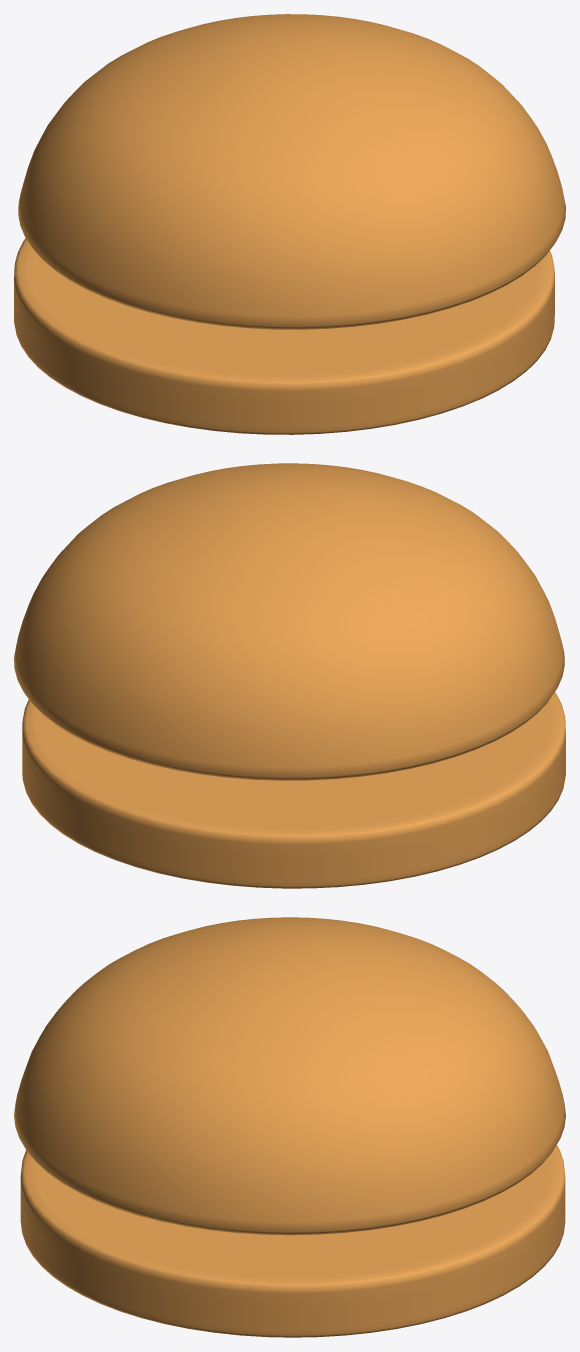
Rendered from Burger2.fbx.
The picture shows the model from 3 angles, top to bottom: view 1: azimuth 30°, elevation 25°; view 2: azimuth 150°, elevation 25°; view 3: azimuth 270°, elevation 25°; orthographic projection.
Visible parts, largest first — view 1: Sphere.007, Sphere.001; view 2: Sphere.007, Sphere.001; view 3: Sphere.007, Sphere.001.
Boxes of the visible parts, x1=… form: Sphere.007: x1=18, y1=14, x2=565, y2=329; Sphere.001: x1=14, y1=238, x2=554, y2=434; Sphere.007: x1=14, y1=463, x2=564, y2=780; Sphere.001: x1=22, y1=692, x2=565, y2=888; Sphere.007: x1=14, y1=917, x2=565, y2=1235; Sphere.001: x1=20, y1=1145, x2=565, y2=1337.
Bounding box in the file's own units: 18.37 × 9.89 × 18.25.
